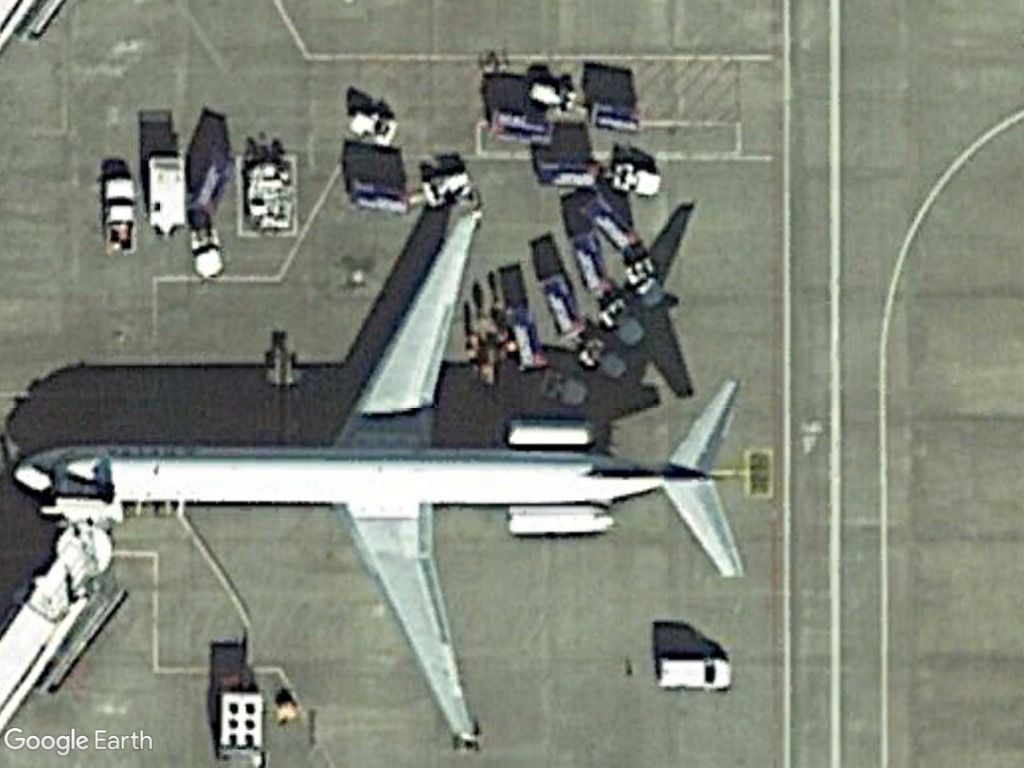chartered: (1, 191, 745, 756)
van: (651, 651, 736, 695)
